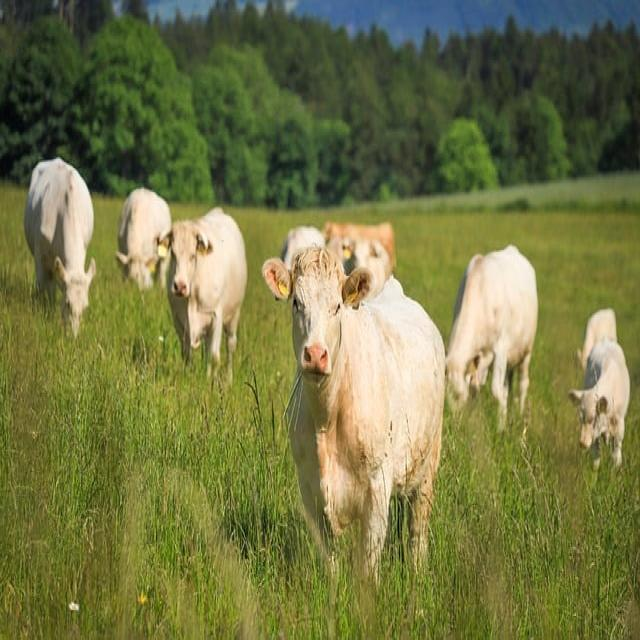Herbivorous: (263, 223, 446, 586), (445, 246, 540, 420), (24, 159, 96, 334), (168, 208, 248, 364), (571, 309, 631, 462), (116, 189, 172, 291)
